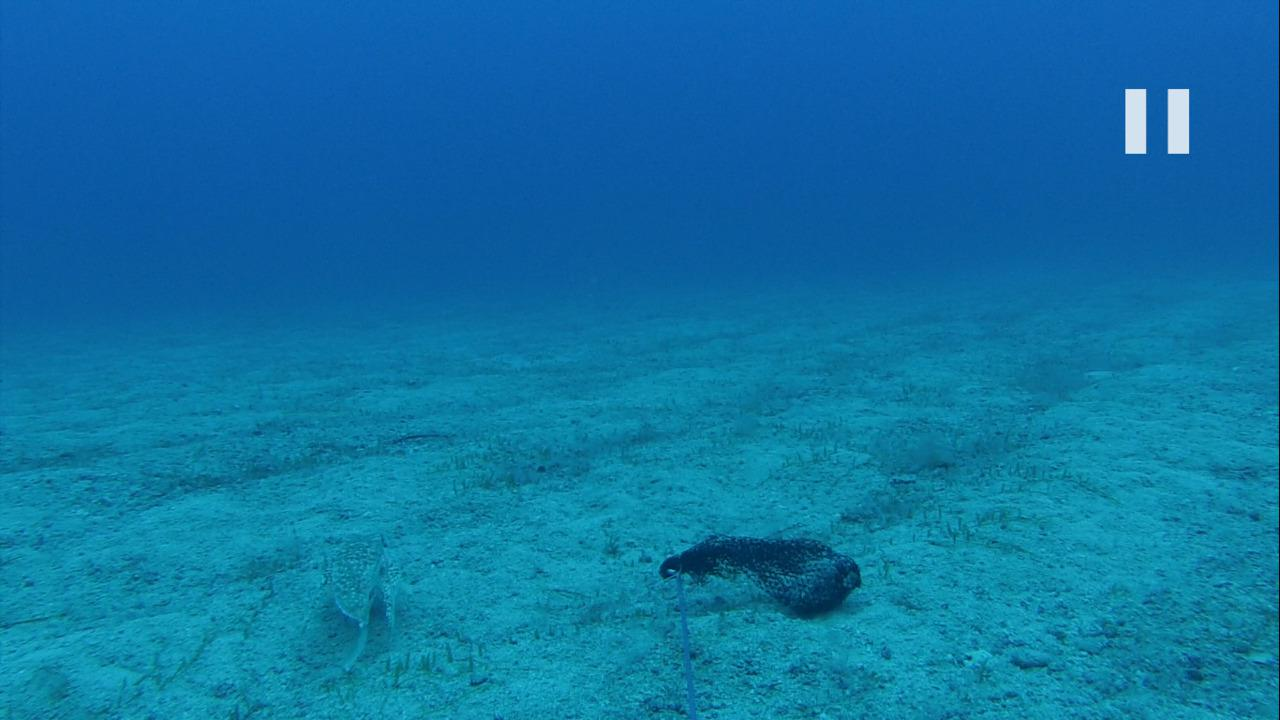dactylopterus: (287, 529, 406, 684)
